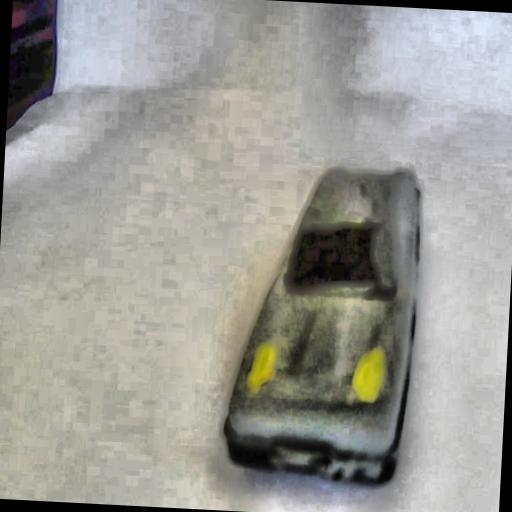normal_car: (214, 158, 428, 490)
